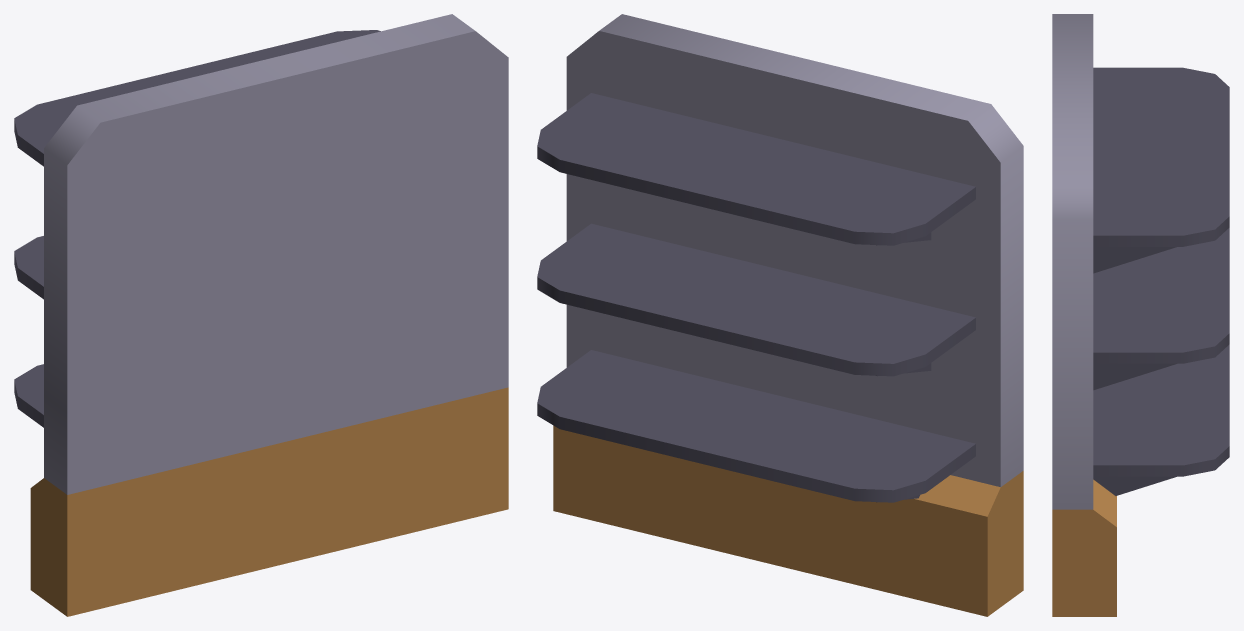
The model's file is Shelf3.fbx.
3 views of the same model, side by side, from view 1: azimuth 30°, elevation 25°; view 2: azimuth 150°, elevation 25°; view 3: azimuth 270°, elevation 25° (orthographic). The views are drawn at different scales.
Parts seen in each view (by area): view 1: Shelf3; view 2: Shelf3; view 3: Shelf3.
Part boxes in pixels (<box>): Shelf3: <box>14,14,508,616</box>; Shelf3: <box>537,14,1023,616</box>; Shelf3: <box>1052,14,1229,616</box>.
Bounding box in the file's own units: 200 × 211 × 79.25.
